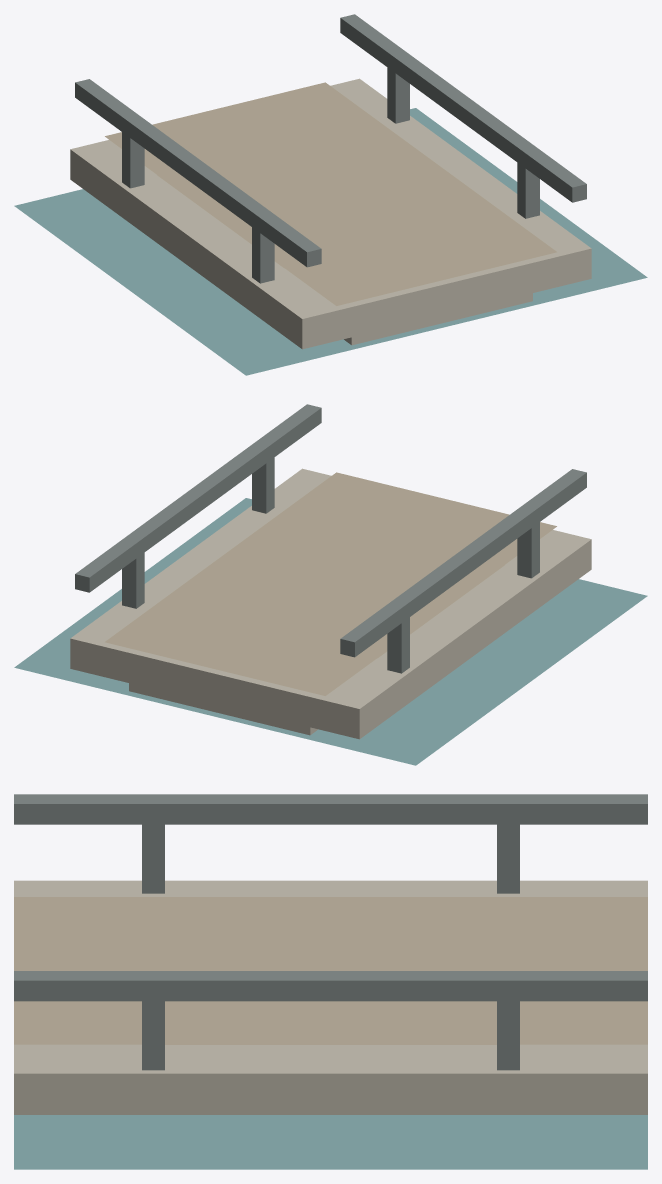
3 renders of one model, top to bottom at view 1: azimuth 30°, elevation 25°; view 2: azimuth 150°, elevation 25°; view 3: azimuth 270°, elevation 25°, orthographic. The views are drawn at different scales.
Parts seen in each view (by area): view 1: Near; view 2: Near; view 3: Near.
Part boxes in pixels (bbox=[...]): Near: bbox=[14, 14, 647, 375]; Near: bbox=[14, 404, 647, 765]; Near: bbox=[14, 794, 647, 1169].
Size of the model in its own units: 1 by 0.258 by 1.
